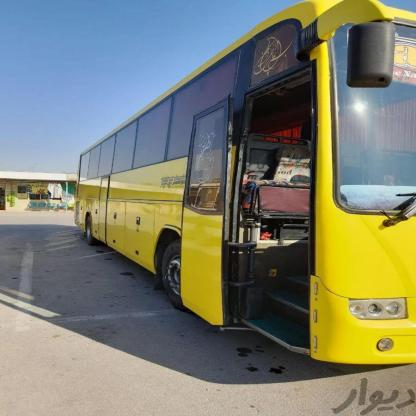Bus: (63, 0, 415, 380)
